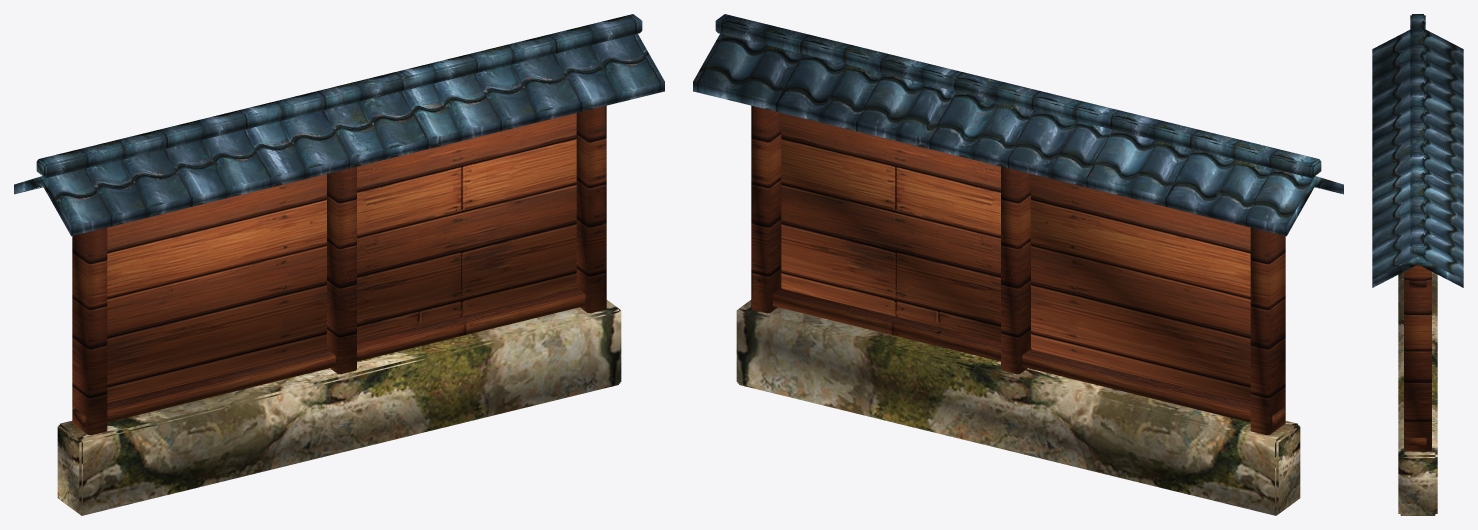
File: edo_wooden_fence_gate.glb
3 renders of one model, left to right at view 1: azimuth 30°, elevation 25°; view 2: azimuth 150°, elevation 25°; view 3: azimuth 270°, elevation 25°, orthographic. The views are drawn at different scales.
Visible parts, largest first — view 1: woodfence_cedar, woodfence_kawara, woodfence_stone, woodfence_charred; view 2: woodfence_cedar, woodfence_kawara, woodfence_stone, woodfence_charred; view 3: woodfence_kawara, woodfence_charred, woodfence_stone.
Boxes of the visible parts, bbox=[...] form: woodfence_cedar: bbox=[107, 113, 576, 402]; woodfence_kawara: bbox=[14, 14, 664, 236]; woodfence_stone: bbox=[57, 300, 621, 515]; woodfence_charred: bbox=[72, 105, 606, 435]; woodfence_cedar: bbox=[781, 113, 1250, 402]; woodfence_kawara: bbox=[693, 14, 1343, 236]; woodfence_stone: bbox=[736, 300, 1300, 515]; woodfence_charred: bbox=[751, 105, 1285, 435]; woodfence_kawara: bbox=[1372, 14, 1463, 287]; woodfence_charred: bbox=[1404, 264, 1431, 451]; woodfence_stone: bbox=[1398, 272, 1437, 515].
Bounding box in the file's own units: 5.08 × 2.87 × 0.84.
Materials: 4 (4 with a texture image).
